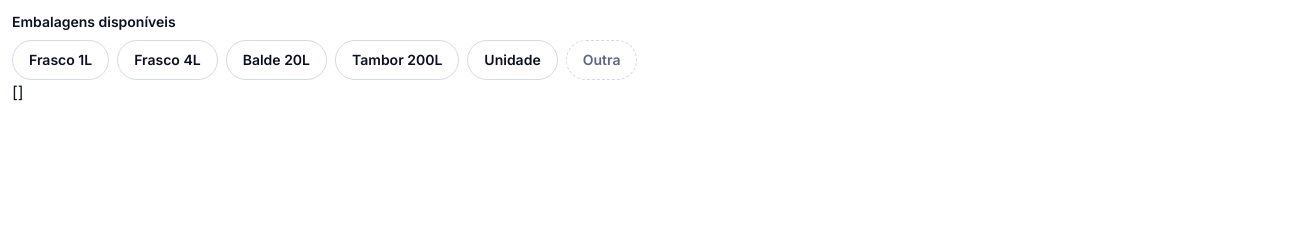
VariantPicker › Outra cria uma embalagem com o nome digitado
Click the button "Outra": (602, 60) left=566, top=40, right=638, bottom=80
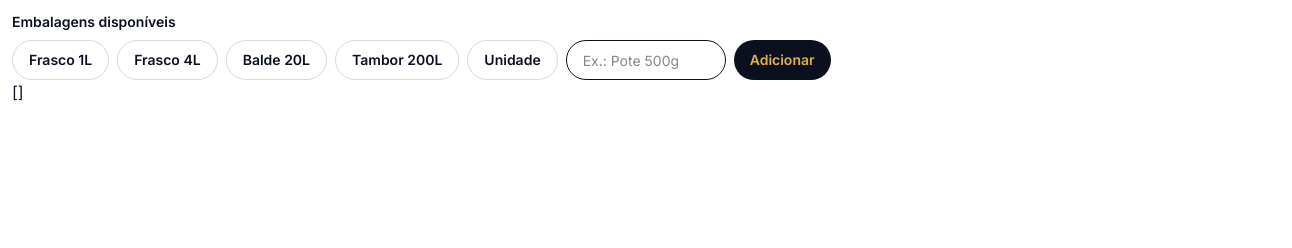
In the field named "Nome da embalagem": (646, 60) left=566, top=40, right=726, bottom=80, type "Pote 500g"
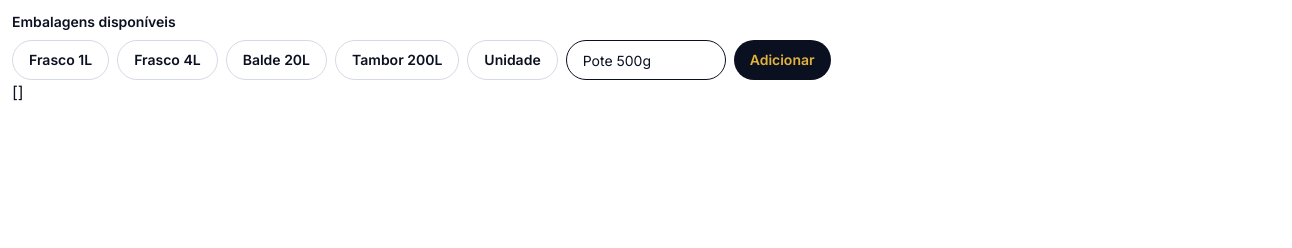
Click the button "Adicionar": (782, 60) left=734, top=40, right=831, bottom=80
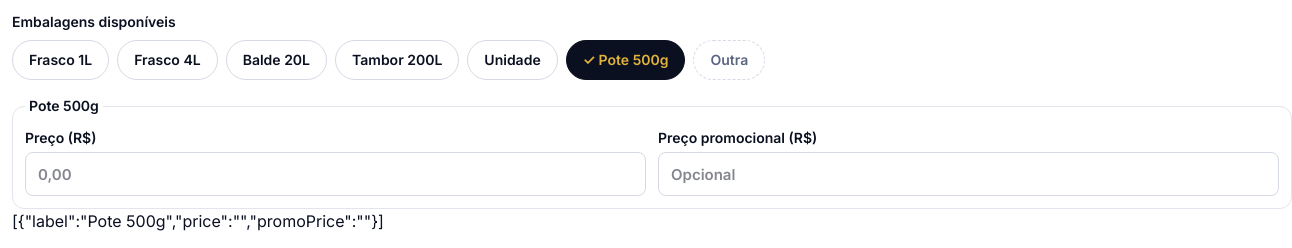
Expected: the element "Pote 500g" is shown, left=12, top=96, right=1291, bottom=209
